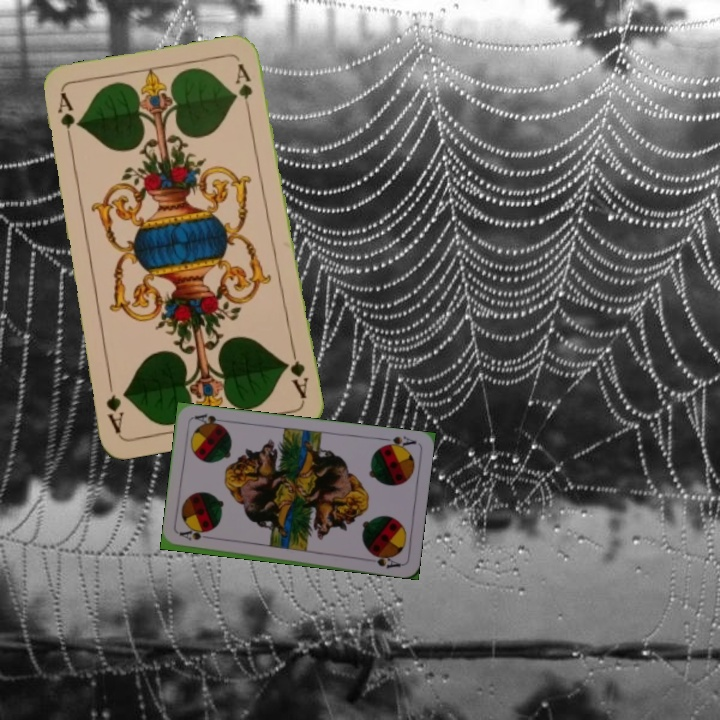GA: (281, 343, 311, 401), (53, 89, 78, 148)
SA: (377, 432, 418, 452), (176, 527, 217, 543)
